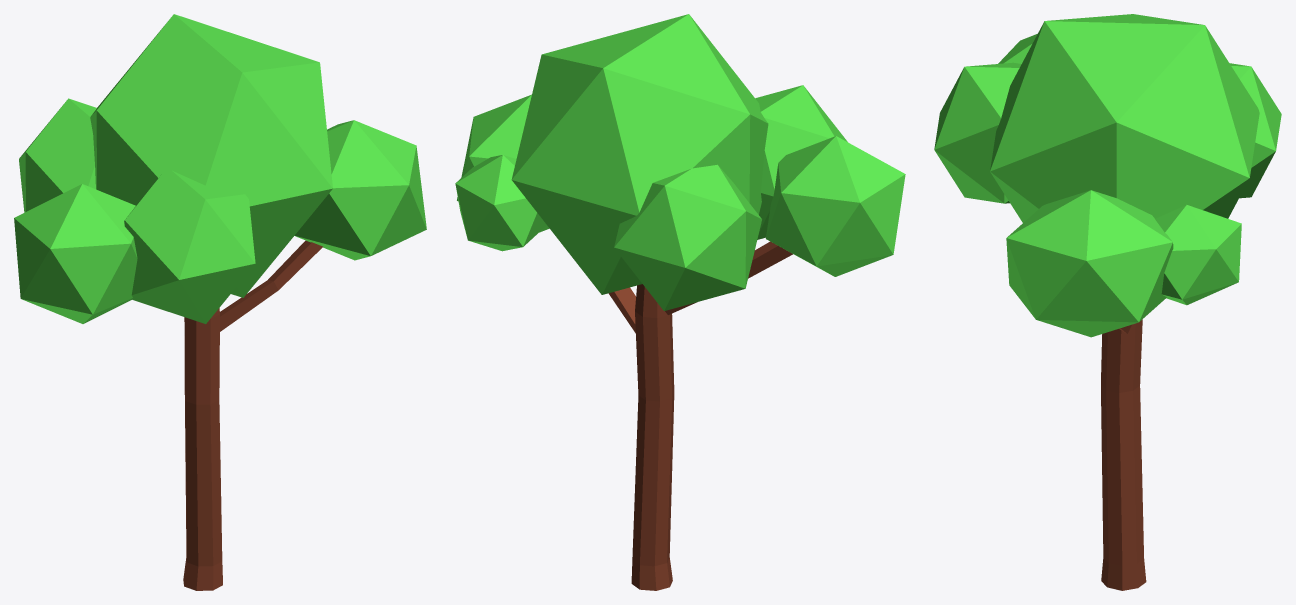
File: Tree2.fbx
The picture shows the model from 3 angles, left to right: view 1: azimuth 30°, elevation 25°; view 2: azimuth 150°, elevation 25°; view 3: azimuth 270°, elevation 25°; orthographic projection. The views are drawn at different scales.
Visible parts, largest first — view 1: Tree; view 2: Tree; view 3: Tree.
Boxes of the visible parts, bbox=[...] form: Tree: bbox=[14, 14, 426, 590]; Tree: bbox=[455, 14, 905, 590]; Tree: bbox=[934, 14, 1281, 590].
Size of the model in its own units: 443 by 560 by 314.
